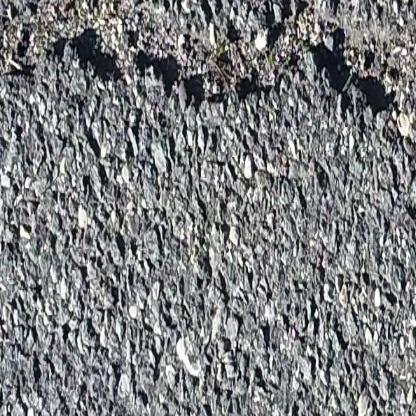Cracks: (132, 0, 416, 121), (48, 27, 127, 92), (0, 27, 38, 110)
